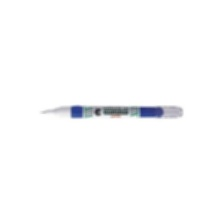correction_fluid: (35, 102, 185, 120)
